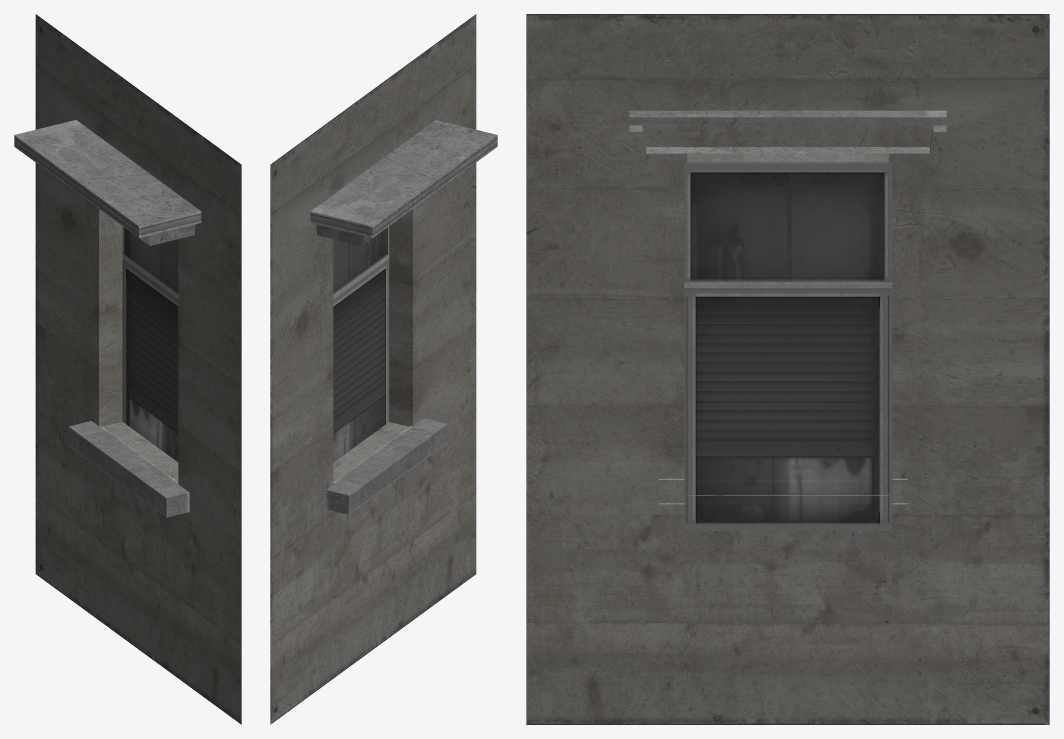
File: CP_Windows_C_2x3m_01.fbx
3 renders of one model, left to right at view 1: azimuth 30°, elevation 25°; view 2: azimuth 150°, elevation 25°; view 3: azimuth 270°, elevation 25°, orthographic. The views are drawn at different scales.
Visible parts, largest first — view 1: CP_Windows_C_2x3m_01; view 2: CP_Windows_C_2x3m_01; view 3: CP_Windows_C_2x3m_01.
Boxes of the visible parts, <box> form: CP_Windows_C_2x3m_01: <box>14,14,241,724</box>; CP_Windows_C_2x3m_01: <box>270,14,497,724</box>; CP_Windows_C_2x3m_01: <box>526,14,1049,724</box>.
Bounding box in the file's own units: 48.71 × 300 × 200.
